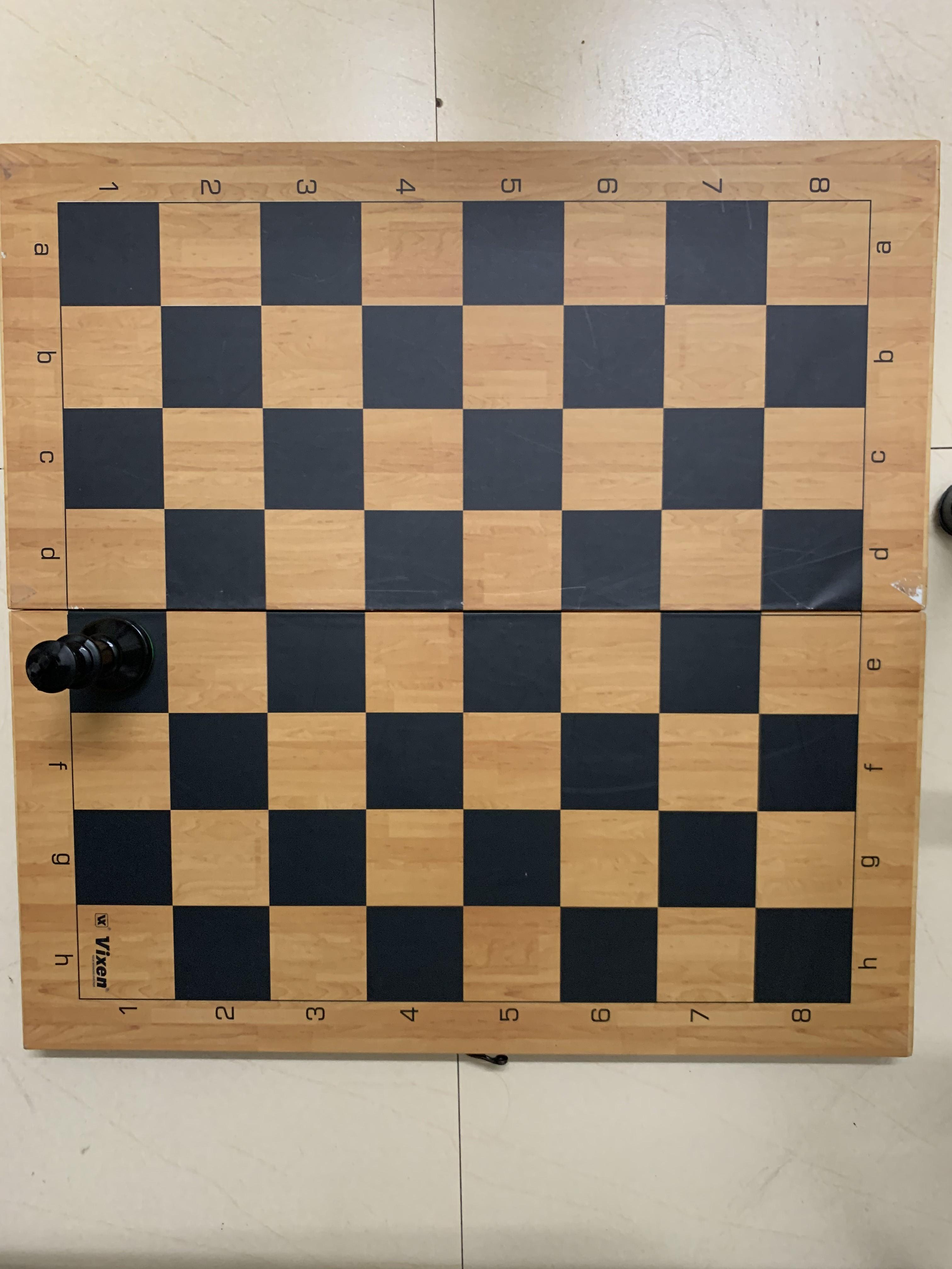black_king: (26, 606, 167, 708)
